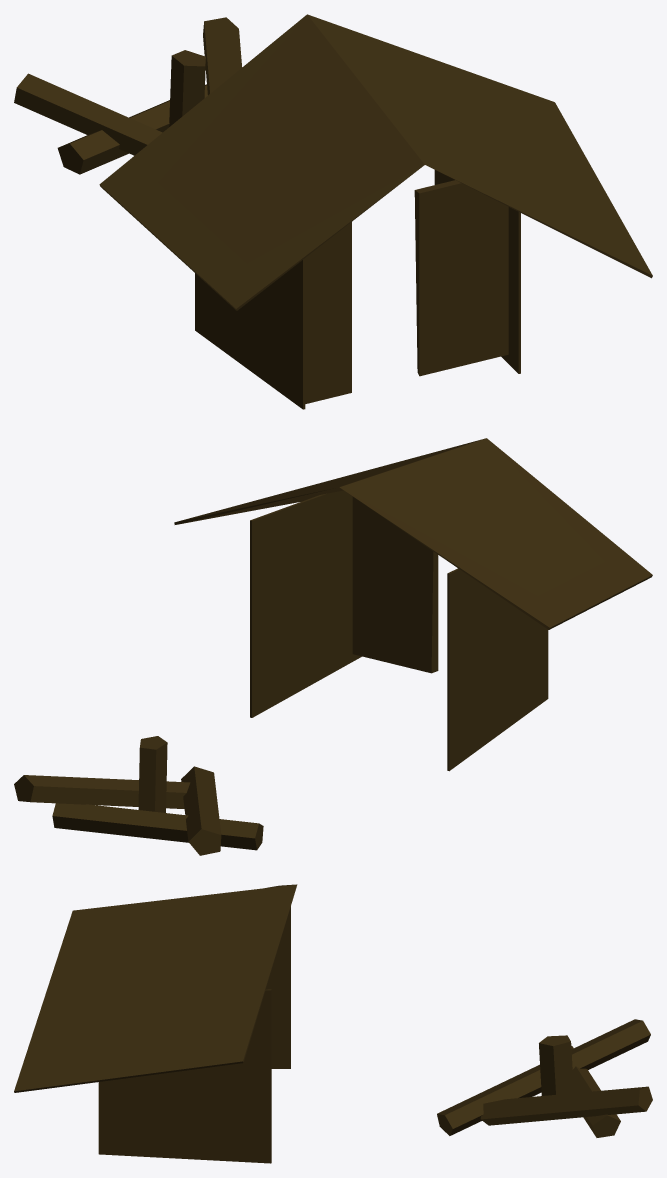
Rendered from camp.glb.
3 views of the same model, one above another, from view 1: azimuth 30°, elevation 25°; view 2: azimuth 150°, elevation 25°; view 3: azimuth 270°, elevation 25° (orthographic). The views are drawn at different scales.
Parts seen in each view (by area): view 1: Cube.004, Cube.003, Cube.005, Cube, Cube.001, Cylinder.001, Cylinder, Cube.002, Cylinder.003, Cylinder.002; view 2: Cube.004, Cube.002, Cube, Cube.005, Cylinder, Cylinder.003, Cylinder.001, Cube.003, Cylinder.002; view 3: Cube.003, Cube.002, Cylinder.001, Cylinder.003, Cube, Cylinder.002, Cylinder.
Boxes of the visible parts, x1=… form: Cube.004: x1=99, y1=14, x2=424, y2=310; Cube.003: x1=307, y1=14, x2=652, y2=278; Cube.005: x1=414, y1=180, x2=508, y2=376; Cube: x1=195, y1=258, x2=305, y2=409; Cube.001: x1=305, y1=222, x2=351, y2=403; Cylinder.001: x1=14, y1=73, x2=162, y2=155; Cylinder: x1=57, y1=84, x2=207, y2=174; Cube.002: x1=434, y1=170, x2=520, y2=373; Cylinder.003: x1=203, y1=17, x2=242, y2=95; Cylinder.002: x1=169, y1=50, x2=205, y2=126; Cube.004: x1=339, y1=438, x2=652, y2=629; Cube.002: x1=250, y1=490, x2=361, y2=717; Cube: x1=447, y1=568, x2=548, y2=771; Cube.005: x1=352, y1=497, x2=438, y2=673; Cylinder: x1=52, y1=803, x2=263, y2=850; Cylinder.003: x1=14, y1=775, x2=190, y2=808; Cylinder.001: x1=181, y1=766, x2=221, y2=855; Cube.003: x1=174, y1=438, x2=484, y2=524; Cylinder.002: x1=138, y1=736, x2=167, y2=812; Cube.003: x1=14, y1=884, x2=297, y2=1092; Cube.002: x1=98, y1=989, x2=271, y2=1163; Cylinder.001: x1=437, y1=1019, x2=650, y2=1135; Cylinder.003: x1=480, y1=1086, x2=652, y2=1125; Cube: x1=266, y1=906, x2=290, y2=1068; Cylinder.002: x1=539, y1=1035, x2=573, y2=1095; Cylinder: x1=571, y1=1046, x2=620, y2=1137.
Size of what is drawn, in the model's own units: 8.21 by 5.28 by 13.03.
